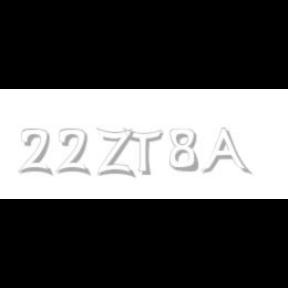2: (17, 128, 51, 176), (55, 128, 89, 176)
8: (170, 128, 198, 172)
A: (201, 128, 249, 176)
T: (123, 128, 163, 176)
Z: (97, 128, 134, 178)
